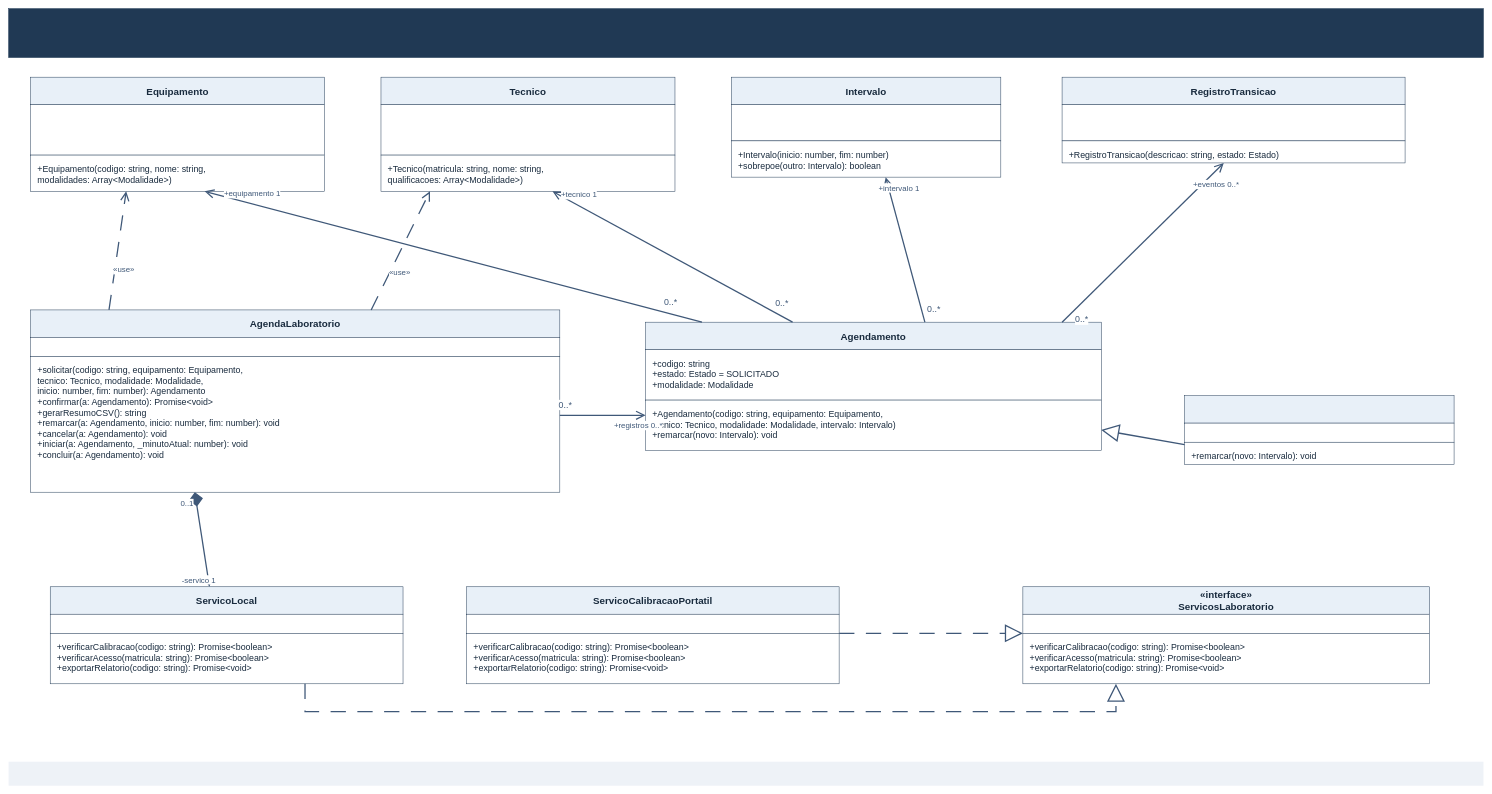
Some shapes in this 1492 by 794 pixel diagram are drawn without their labels. Each missing label, with the box of its shape:
+codigo: string +nome: string +modalidades: Array<Modalidade>: (30, 104, 325, 155)
+descricao: string +estado: Estado: (1062, 104, 1405, 141)
+inicio: number +fim: number: (731, 104, 1001, 141)
+matricula: string +nome: string +qualificacoes: Array<Modalidade>: (380, 104, 675, 155)
AgendamentoCampo: (1184, 395, 1454, 423)
SISTEMA LEGADO / UML 2.5.1 — DIAGRAMA INTEGRADO: (8, 8, 1483, 58)
Uma única vista integrada; classes e relacionamentos editáveis.: (8, 761, 1483, 785)
